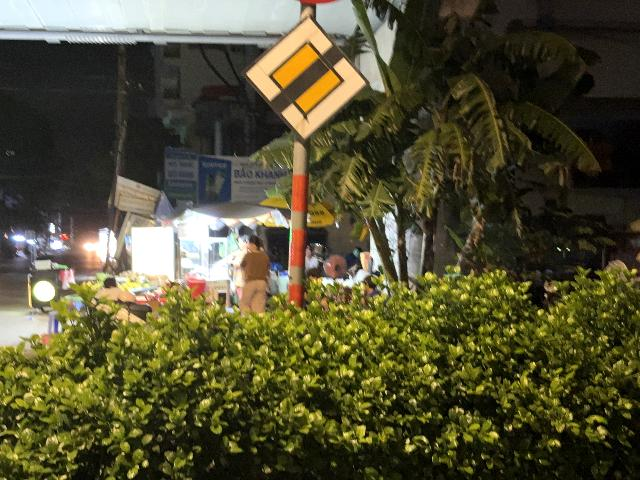het-duong-uu-tien: (241, 13, 371, 145)
